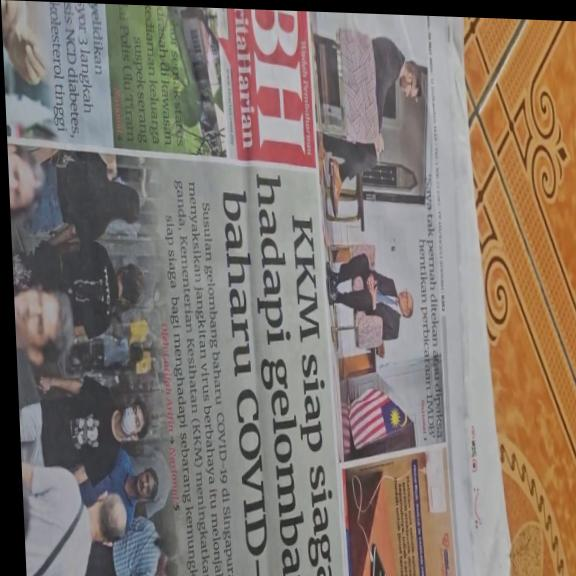Kertas: (27, 3, 480, 576)
